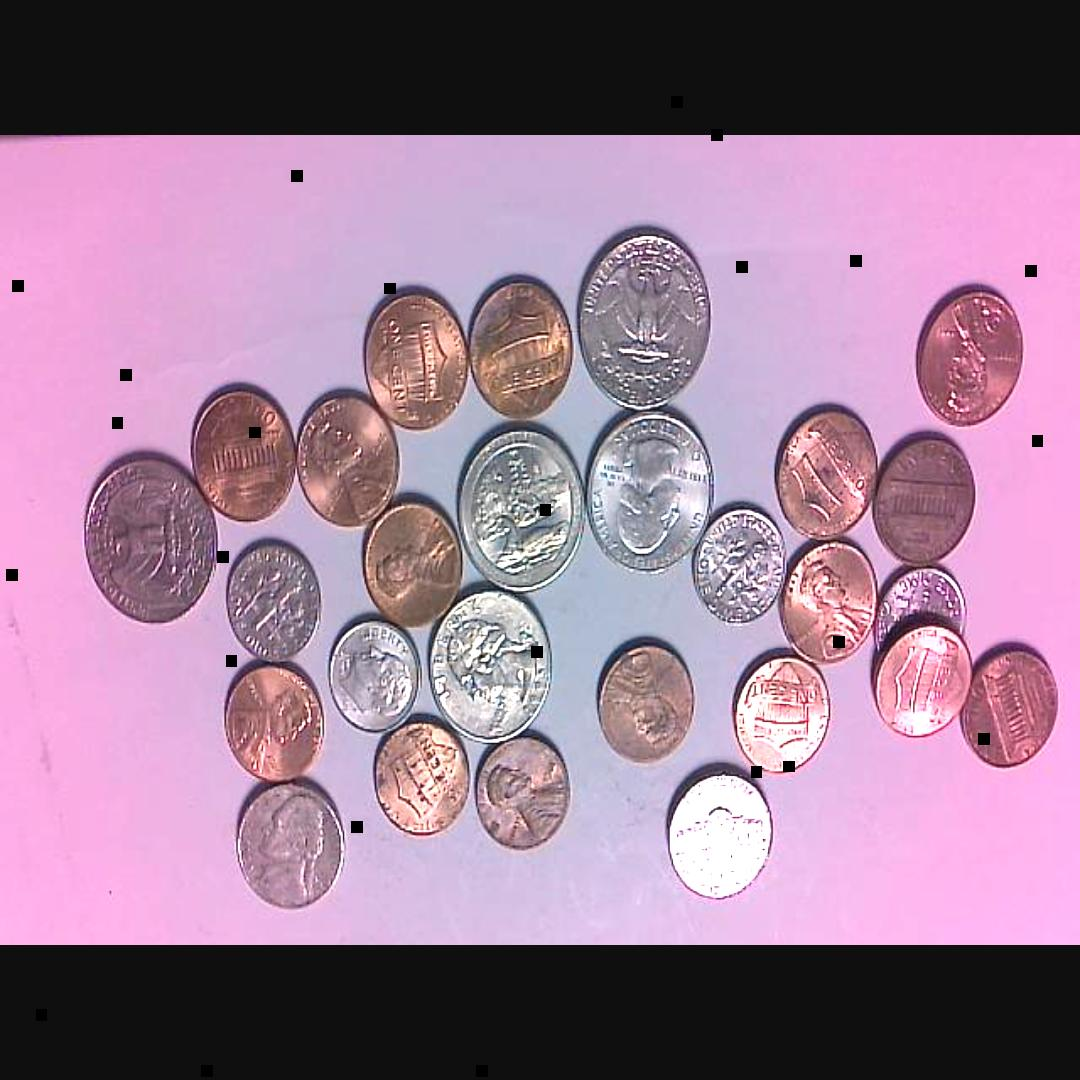Dime: (226, 536, 324, 666), (689, 497, 787, 626), (325, 613, 420, 738), (872, 564, 967, 649)
Nickel: (663, 768, 771, 910), (233, 780, 346, 913)
Penny: (357, 286, 473, 438), (185, 385, 298, 530), (729, 636, 839, 784), (916, 284, 1024, 425), (467, 276, 572, 419), (299, 385, 400, 524), (218, 654, 326, 782), (873, 434, 978, 565), (364, 498, 464, 633), (780, 537, 883, 668), (872, 615, 972, 745), (964, 641, 1061, 771), (778, 408, 876, 536), (469, 728, 567, 853), (597, 641, 694, 764), (371, 719, 469, 839)
Quarter: (574, 221, 716, 410), (454, 412, 593, 594), (79, 449, 215, 624), (427, 582, 560, 742), (586, 407, 713, 573)
